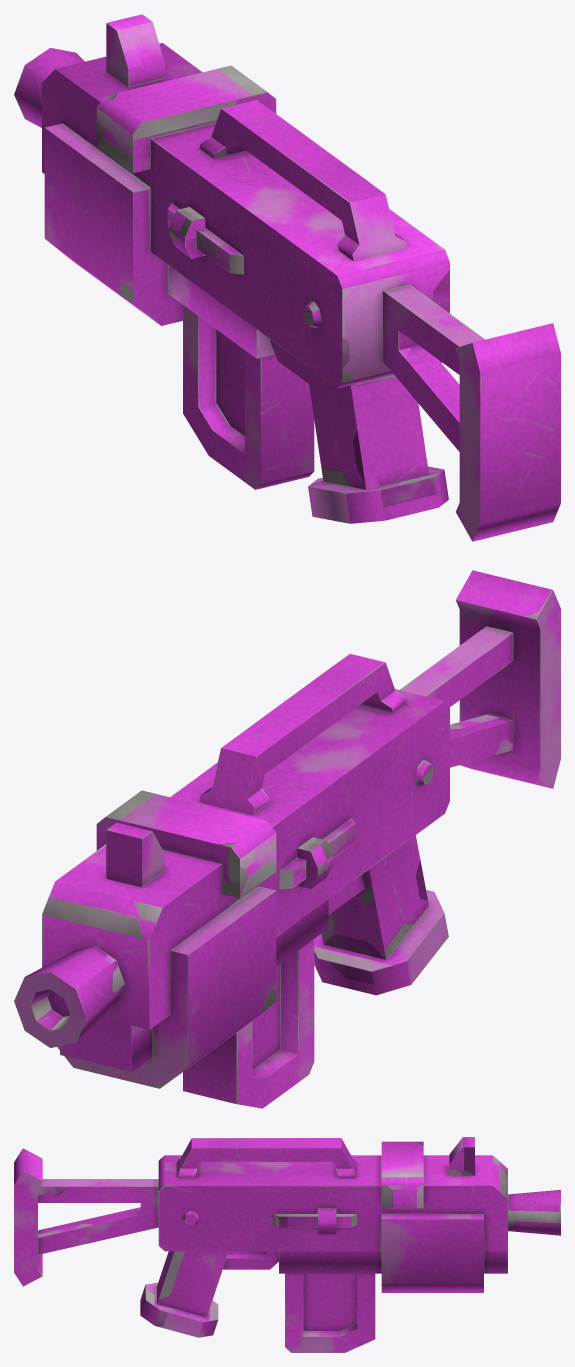
File: blaster-d.glb
3 renders of one model, top to bottom at view 1: azimuth 30°, elevation 25°; view 2: azimuth 150°, elevation 25°; view 3: azimuth 270°, elevation 25°, orthographic. The views are drawn at different scales.
Parts seen in each view (by area): view 1: blaster-d, magazine; view 2: blaster-d, magazine; view 3: blaster-d, magazine.
Boxes of the visible parts, bbox=[...] form: blaster-d: bbox=[14, 14, 560, 541]; magazine: bbox=[183, 305, 314, 489]; blaster-d: bbox=[14, 570, 560, 1088]; magazine: bbox=[183, 939, 314, 1108]; blaster-d: bbox=[14, 1137, 560, 1337]; magazine: bbox=[285, 1273, 375, 1352].
Size of the model in its own units: 0.165 by 0.3719 by 0.9079.
1 material, 1 textured.
